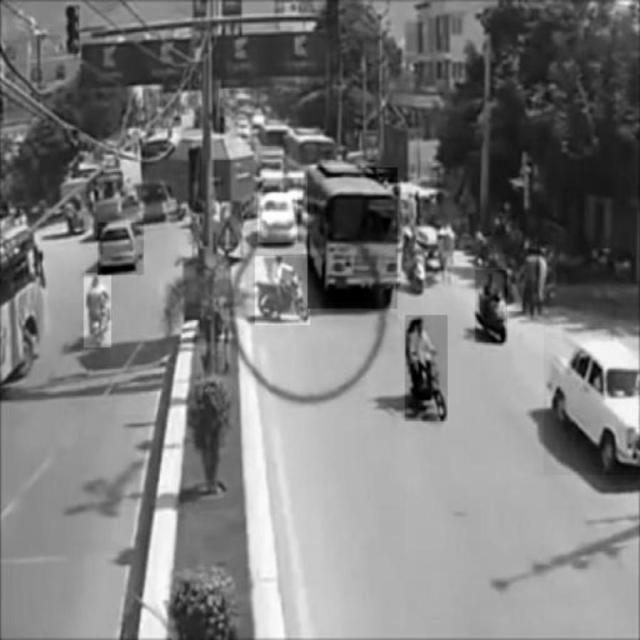vehicle: (544, 334, 640, 476), (308, 168, 398, 309), (405, 316, 447, 422), (255, 257, 310, 325), (98, 223, 144, 275), (476, 271, 508, 343), (258, 193, 298, 243), (84, 274, 111, 348)
